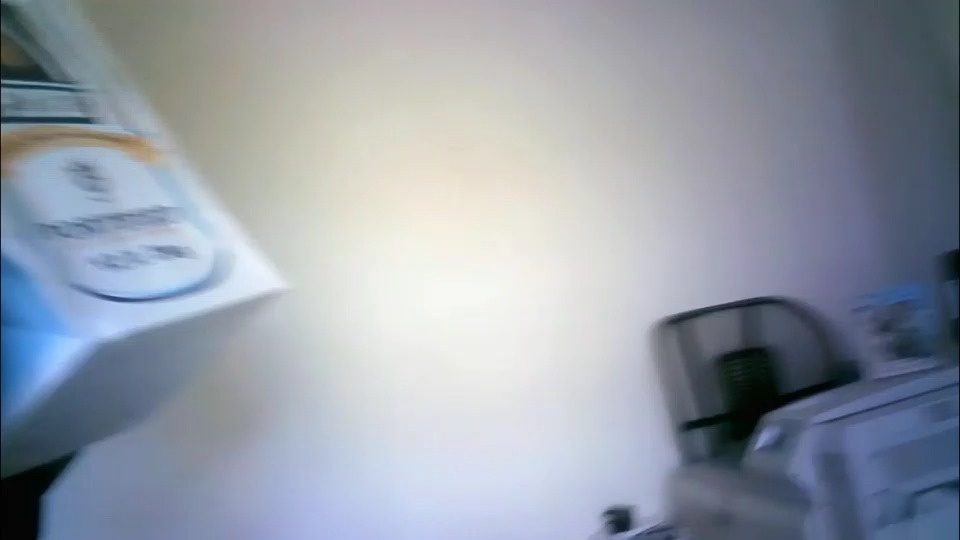wheat_flour_blue_label: (0, 0, 291, 477)
